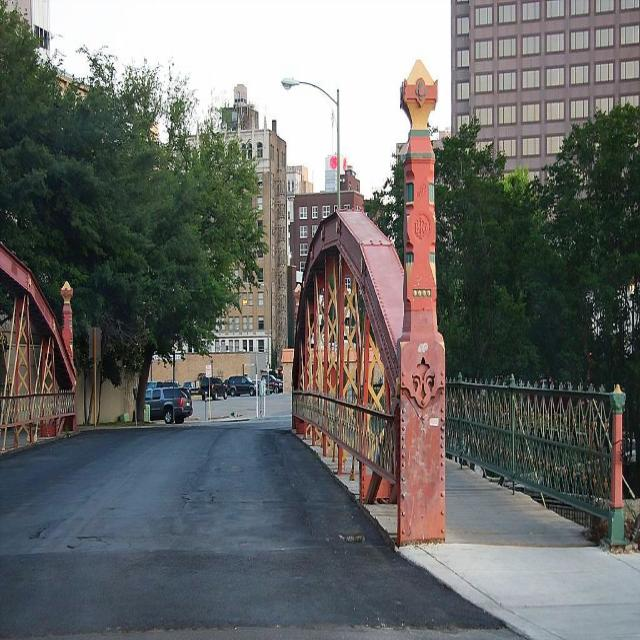Street Light: (280, 77, 342, 413)
